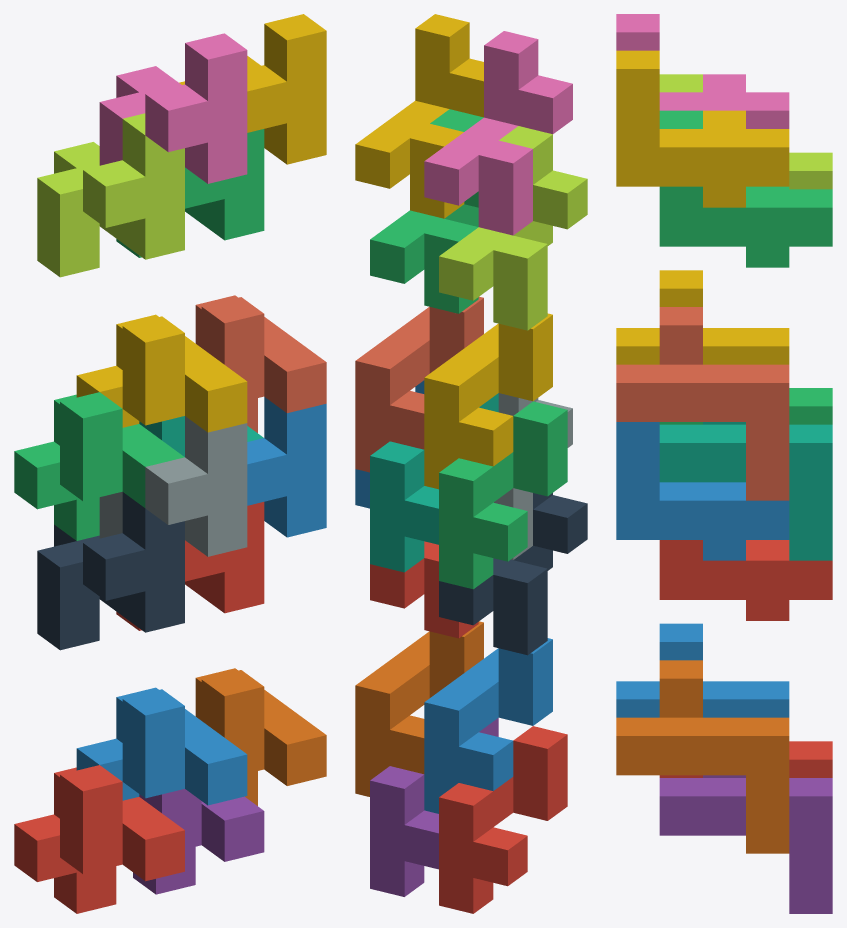
The model's file is tiling.obj.
The picture shows the model from 3 angles, left to right: view 1: azimuth 30°, elevation 25°; view 2: azimuth 150°, elevation 25°; view 3: azimuth 270°, elevation 25°; orthographic projection. The views are drawn at different scales.
Parts seen in each view (by area): view 1: copy_2_domain_3, copy_1_domain_1, copy_2_domain_1, copy_2_domain_4, copy_1_domain_3, copy_1_domain_2, copy_1_domain_4, copy_2_domain_2, copy_2_domain_8, copy_1_domain_6, copy_1_domain_8, copy_2_domain_6 (+4 smaller); view 2: copy_2_domain_4, copy_1_domain_1, copy_1_domain_3, copy_1_domain_4, copy_1_domain_2, copy_2_domain_3, copy_2_domain_8, copy_1_domain_8, copy_1_domain_6, copy_2_domain_1, copy_1_domain_5, copy_1_domain_7 (+4 smaller); view 3: copy_1_domain_6, copy_1_domain_8, copy_2_domain_8, copy_2_domain_6, copy_2_domain_7, copy_1_domain_7, copy_1_domain_5, copy_2_domain_5, copy_1_domain_2, copy_1_domain_4, copy_2_domain_4, copy_2_domain_3 (+2 smaller).
Part boxes in pixels (x1,y1,x2,y2): copy_2_domain_3: (37,113,184,277); copy_1_domain_1: (14,765,184,913); copy_2_domain_1: (37,492,184,650); copy_2_domain_4: (99,33,247,183); copy_1_domain_3: (14,392,184,540); copy_1_domain_2: (76,687,247,805); copy_1_domain_4: (76,314,247,432); copy_2_domain_2: (99,416,247,556); copy_2_domain_8: (179,14,326,164); copy_1_domain_6: (195,668,326,805); copy_1_domain_8: (195,295,326,432); copy_2_domain_6: (247,397,326,537); copy_2_domain_4: (424,31,572,235); copy_1_domain_1: (439,726,567,913); copy_1_domain_3: (439,401,567,589); copy_1_domain_4: (424,313,552,489); copy_1_domain_2: (424,638,552,813); copy_2_domain_3: (439,126,587,330); copy_2_domain_8: (355,14,483,218); copy_1_domain_8: (355,296,483,472); copy_1_domain_6: (355,621,483,796); copy_2_domain_1: (439,493,587,655); copy_1_domain_5: (370,718,498,896); copy_1_domain_7: (370,393,498,572); copy_1_domain_6: (616,660,789,853); copy_1_domain_8: (616,307,789,500); copy_2_domain_8: (616,50,789,207); copy_2_domain_6: (616,422,789,560); copy_2_domain_7: (659,110,832,267); copy_1_domain_7: (659,422,832,560); copy_1_domain_5: (659,775,832,913); copy_2_domain_5: (659,540,832,620); copy_1_domain_2: (616,623,789,717); copy_1_domain_4: (616,270,789,364); copy_2_domain_4: (616,14,789,128); copy_2_domain_3: (659,74,832,189).
Size of the model in its own units: 5 by 22 by 5.
